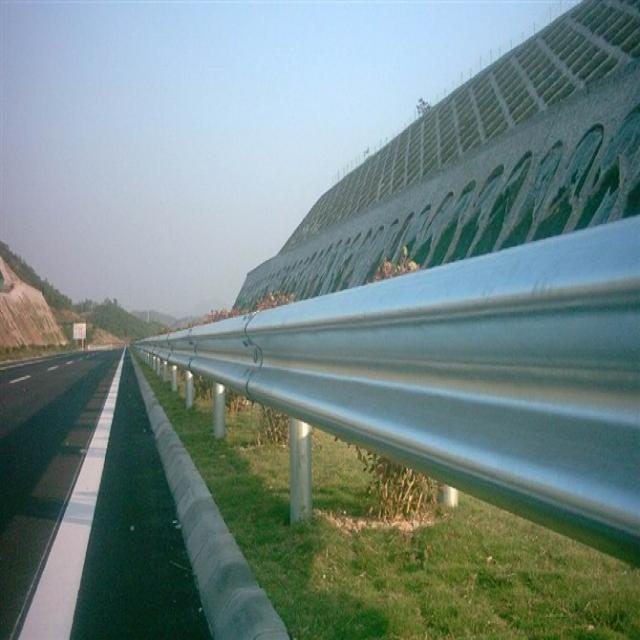Guard rail: (141, 216, 640, 564)
